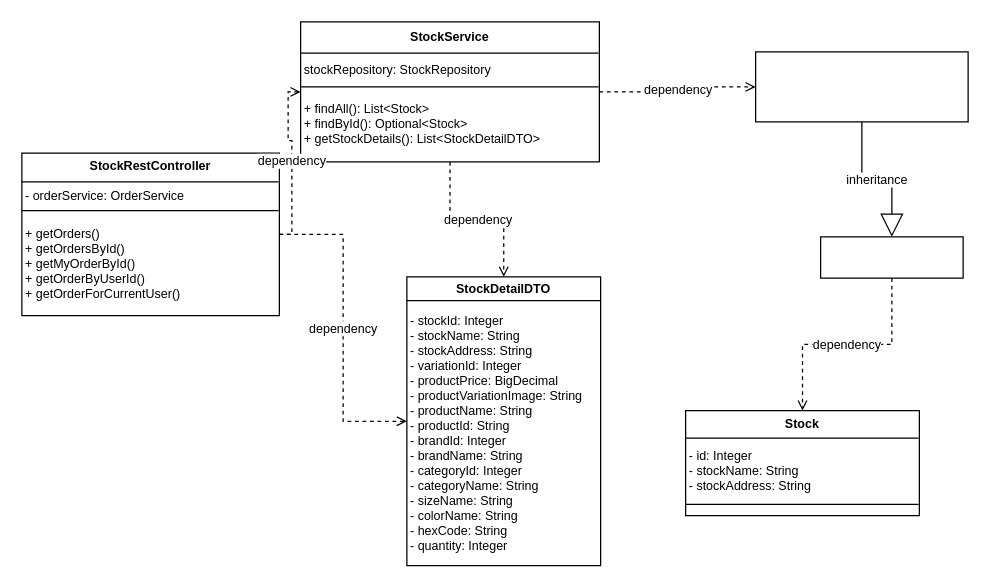
The diagram is 990 pixels wide and 588 high, and some of its shapes have lost their labels. The shapes that lost their labels are listed below. From the top down, each one's centre as x and y in pixels, then its label:
pixel 861 86: <<Interface>> StockRepository + findStockDetailsById: List<Object[]>
pixel 891 257: JpaRepository
